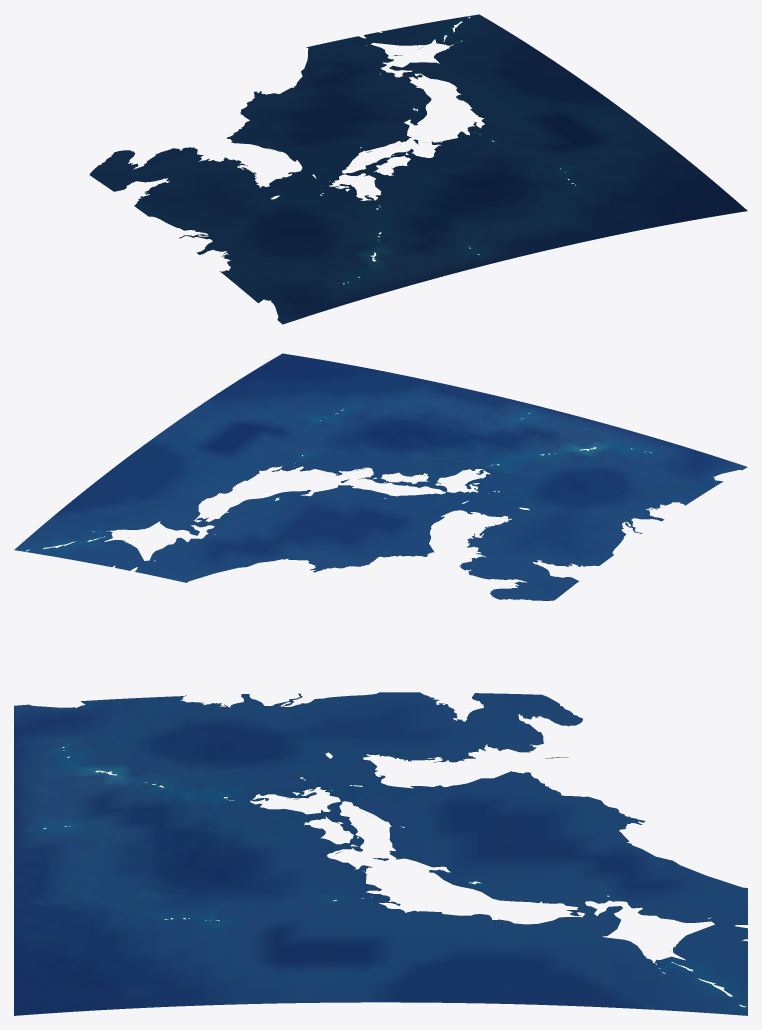
3 views of the same model, one above another, from view 1: azimuth 30°, elevation 25°; view 2: azimuth 150°, elevation 25°; view 3: azimuth 270°, elevation 25° (orthographic). The views are drawn at different scales.
Visible parts, largest first — view 1: Joint_0_Object_0; view 2: Joint_0_Object_0, Joint_0_Object_1; view 3: Joint_0_Object_0, Joint_0_Object_1.
Boxes of the visible parts, box(x1,y1,x2,y2) form: Joint_0_Object_0: box(89, 14, 747, 324); Joint_0_Object_0: box(14, 353, 747, 600); Joint_0_Object_1: box(26, 410, 742, 600); Joint_0_Object_0: box(14, 692, 747, 1015); Joint_0_Object_1: box(43, 694, 747, 1006).
Bounding box in the file's own units: 10000 × 429 × 10000.
Materials: 2 (2 with a texture image).
